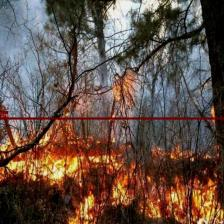fire: (0, 117, 224, 224)
